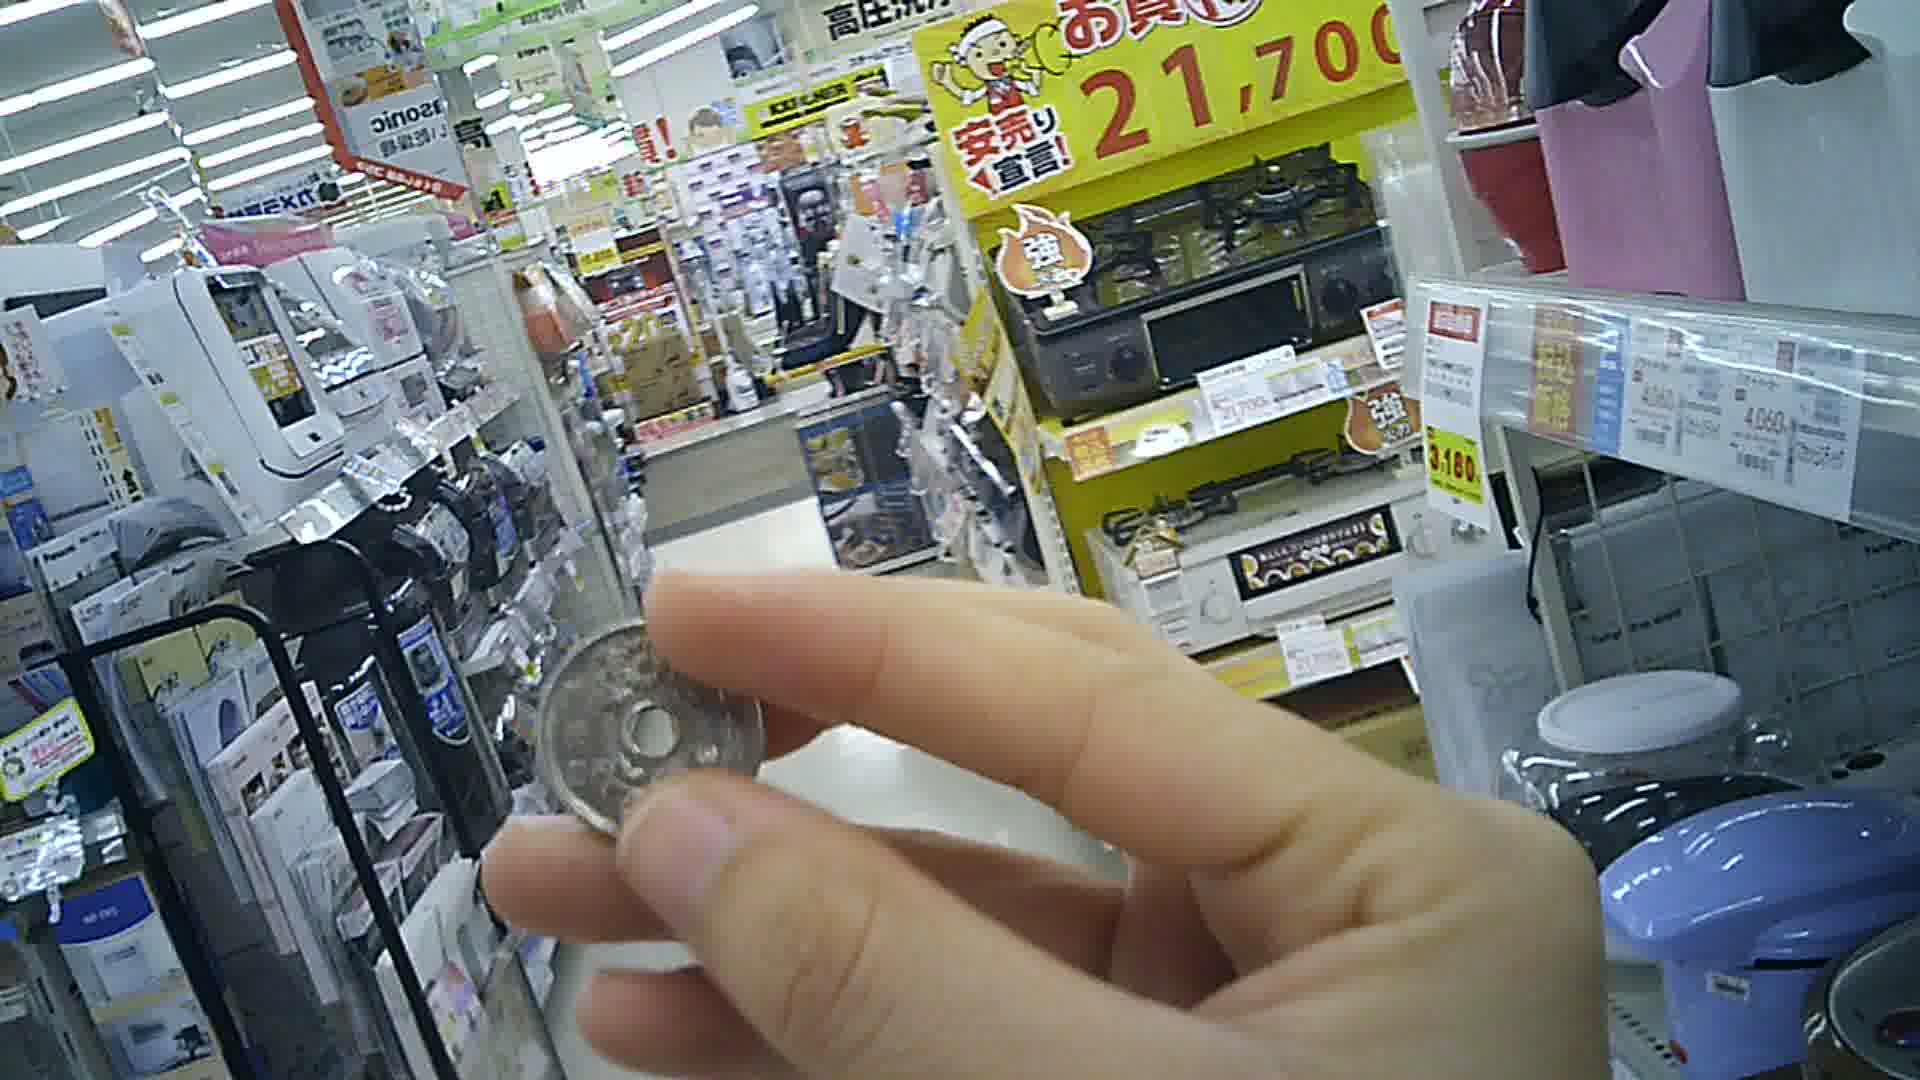50 Yen: (531, 618, 775, 833)
